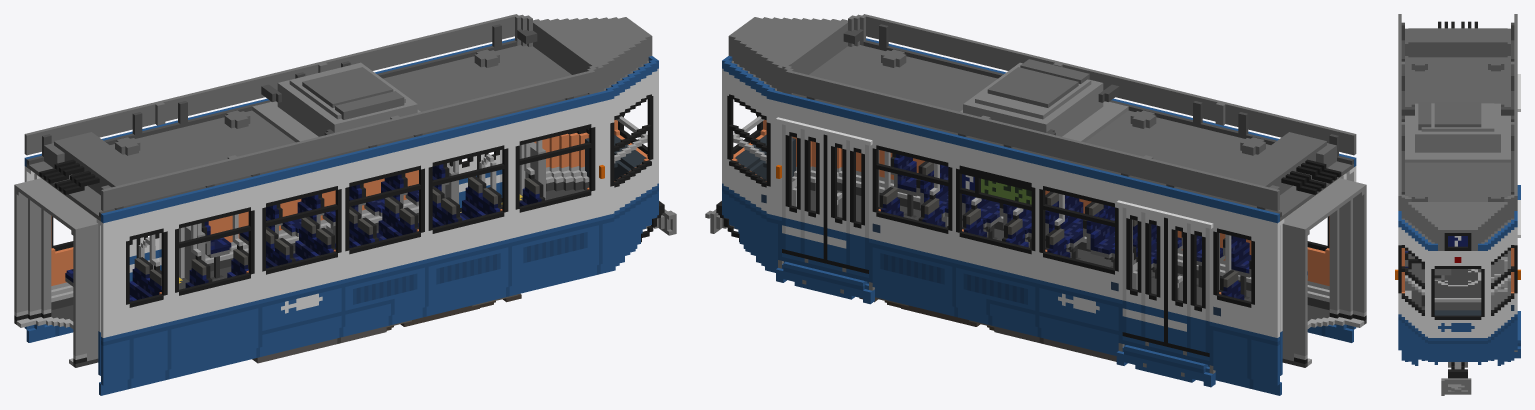
File: saenfteheck.obj
3 views of the same model, side by side, from view 1: azimuth 30°, elevation 25°; view 2: azimuth 150°, elevation 25°; view 3: azimuth 270°, elevation 25° (orthographic). The views are drawn at different scales.
Parts seen in each view (by area): view 1: FRAME, BOGEY_REAR; view 2: FRAME; view 3: FRAME.
Boxes of the visible parts, x1,y1,x2,y2 form: FRAME: (14, 14, 676, 395); BOGEY_REAR: (386, 293, 521, 327); FRAME: (705, 14, 1366, 395); FRAME: (1395, 14, 1520, 395).
Size of what is drawn, in the model's own units: 10.38 by 3.75 by 2.38.
Materials: 1 (1 with a texture image).
